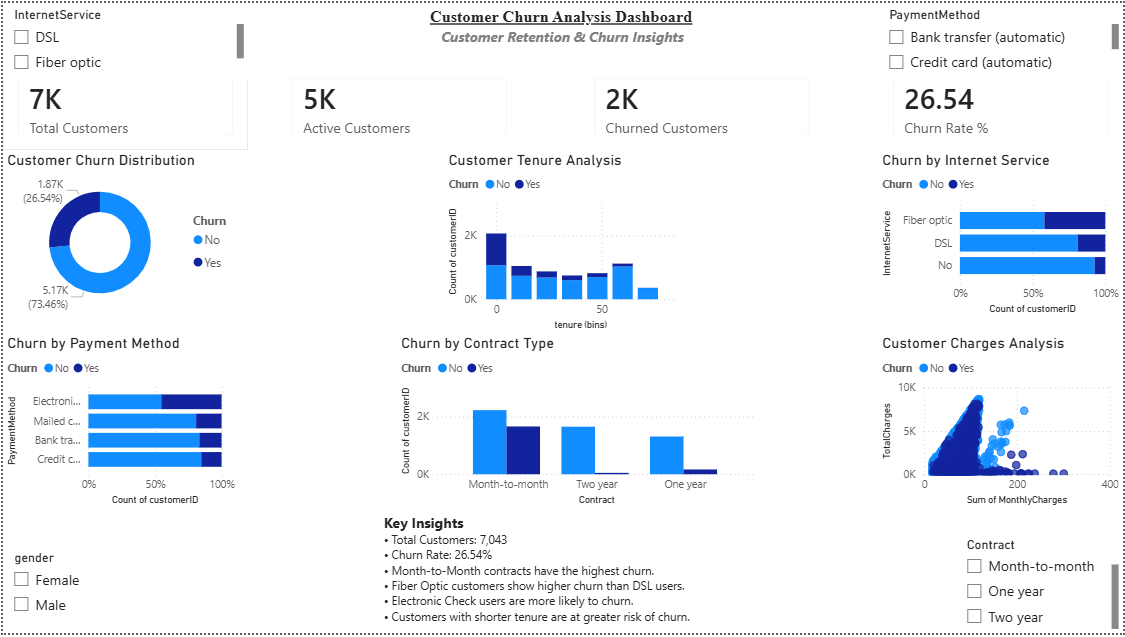

Layout of this report page (visuals, bound fields, positions):
{"tool":"powerbi","page":{"name":"Page 1","canvas":[1280,720],"ordinal":0},"visuals":[{"type":"cardVisual","fields":{"Data":["WA_Fn-UseC_-Telco-Customer-Churn.Total Customers"]},"box":[0,68.3,280,100],"z":0},{"type":"cardVisual","fields":{"Data":["WA_Fn-UseC_-Telco-Customer-Churn.Churned Customers"]},"box":[658,68,280,100],"z":1000},{"type":"cardVisual","fields":{"Data":["WA_Fn-UseC_-Telco-Customer-Churn.Active Customers"]},"box":[313.3,68.3,280,100],"z":2000},{"type":"cardVisual","fields":{"Data":["WA_Fn-UseC_-Telco-Customer-Churn.Churn Rate %"]},"box":[1000,68,280,100],"z":3000},{"type":"textbox","box":[483.3,0,313.3,68.3],"z":4000},{"type":"donutChart","title":"Customer Churn Distribution","fields":{"Category":["WA_Fn-UseC_-Telco-Customer-Churn.Churn"],"Y":["CountNonNull(WA_Fn-UseC_-Telco-Customer-Churn.customerID)"]},"box":[0,168.3,280,191.7],"z":5000},{"type":"clusteredColumnChart","title":"Churn by Contract Type","fields":{"Category":["WA_Fn-UseC_-Telco-Customer-Churn.Contract"],"Y":["CountNonNull(WA_Fn-UseC_-Telco-Customer-Churn.customerID)"],"Series":["WA_Fn-UseC_-Telco-Customer-Churn.Churn"]},"box":[450,378,416,200],"z":6000},{"type":"hundredPercentStackedBarChart","title":"Churn by Internet Service","fields":{"Category":["WA_Fn-UseC_-Telco-Customer-Churn.InternetService"],"Y":["CountNonNull(WA_Fn-UseC_-Telco-Customer-Churn.customerID)"],"Series":["WA_Fn-UseC_-Telco-Customer-Churn.Churn"]},"box":[1000,168.3,280,191.7],"z":7000},{"type":"hundredPercentStackedBarChart","title":"Churn by Payment Method","fields":{"Category":["WA_Fn-UseC_-Telco-Customer-Churn.PaymentMethod"],"Y":["CountNonNull(WA_Fn-UseC_-Telco-Customer-Churn.customerID)"],"Series":["WA_Fn-UseC_-Telco-Customer-Churn.Churn"]},"box":[0,378.3,270,200],"z":8000},{"type":"scatterChart","title":"Customer Charges Analysis","fields":{"X":["Sum(WA_Fn-UseC_-Telco-Customer-Churn.MonthlyCharges)"],"Series":["WA_Fn-UseC_-Telco-Customer-Churn.Churn"],"Y":["WA_Fn-UseC_-Telco-Customer-Churn.TotalCharges"]},"box":[1000,378.3,280,200],"z":9000},{"type":"columnChart","title":"Customer Tenure Analysis","fields":{"Y":["CountNonNull(WA_Fn-UseC_-Telco-Customer-Churn.customerID)"],"Series":["WA_Fn-UseC_-Telco-Customer-Churn.Churn"],"Category":["WA_Fn-UseC_-Telco-Customer-Churn.tenure (bins)"]},"box":[504,168,270,210],"z":10000},{"type":"textbox","box":[430,577.1,420,142.9],"z":11000},{"type":"slicer","fields":{"Values":["WA_Fn-UseC_-Telco-Customer-Churn.gender"]},"box":[0,620,280,100],"z":12000},{"type":"slicer","fields":{"Values":["WA_Fn-UseC_-Telco-Customer-Churn.Contract"]},"box":[1088.6,605.7,191.4,114.3],"z":12001},{"type":"slicer","fields":{"Values":["WA_Fn-UseC_-Telco-Customer-Churn.InternetService"]},"box":[0,0,280,87.1],"z":12002},{"type":"slicer","fields":{"Values":["WA_Fn-UseC_-Telco-Customer-Churn.PaymentMethod"]},"box":[1000,0,280,87.1],"z":12003}]}

Visuals, with their boxes in screenshot pixels (x1, y1, x2, y2), scaled from the page's 1280x720 canvas onto the 1125x637 screenshot:
cardVisual - WA_Fn-UseC_-Telco-Customer-Churn.Total Customers: (left=0, top=60, right=246, bottom=149)
cardVisual - WA_Fn-UseC_-Telco-Customer-Churn.Churned Customers: (left=578, top=60, right=824, bottom=149)
cardVisual - WA_Fn-UseC_-Telco-Customer-Churn.Active Customers: (left=275, top=60, right=521, bottom=149)
cardVisual - WA_Fn-UseC_-Telco-Customer-Churn.Churn Rate %: (left=879, top=60, right=1124, bottom=149)
textbox: (left=425, top=0, right=700, bottom=60)
"Customer Churn Distribution" donutChart: (left=0, top=149, right=246, bottom=318)
"Churn by Contract Type" clusteredColumnChart: (left=396, top=334, right=761, bottom=511)
"Churn by Internet Service" hundredPercentStackedBarChart: (left=879, top=149, right=1124, bottom=318)
"Churn by Payment Method" hundredPercentStackedBarChart: (left=0, top=335, right=237, bottom=512)
"Customer Charges Analysis" scatterChart: (left=879, top=335, right=1124, bottom=512)
"Customer Tenure Analysis" columnChart: (left=443, top=149, right=680, bottom=334)
textbox: (left=378, top=511, right=747, bottom=636)
slicer - WA_Fn-UseC_-Telco-Customer-Churn.gender: (left=0, top=549, right=246, bottom=636)
slicer - WA_Fn-UseC_-Telco-Customer-Churn.Contract: (left=957, top=536, right=1124, bottom=636)
slicer - WA_Fn-UseC_-Telco-Customer-Churn.InternetService: (left=0, top=0, right=246, bottom=77)
slicer - WA_Fn-UseC_-Telco-Customer-Churn.PaymentMethod: (left=879, top=0, right=1124, bottom=77)
